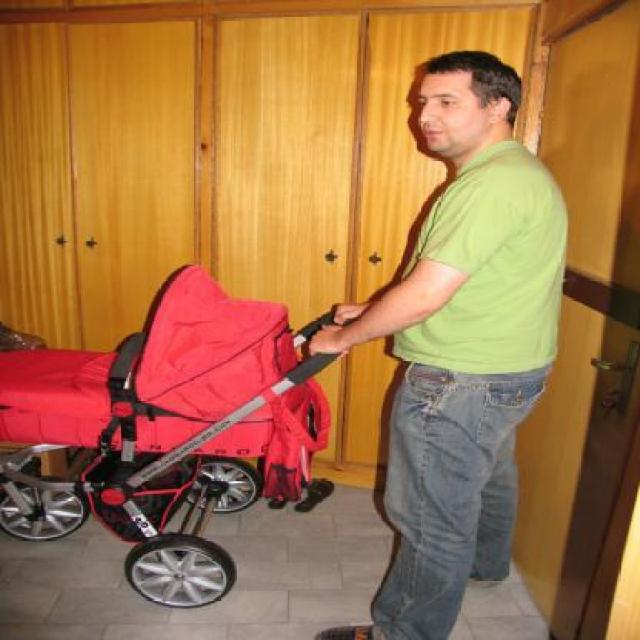sem_oculos: (408, 87, 510, 119)
